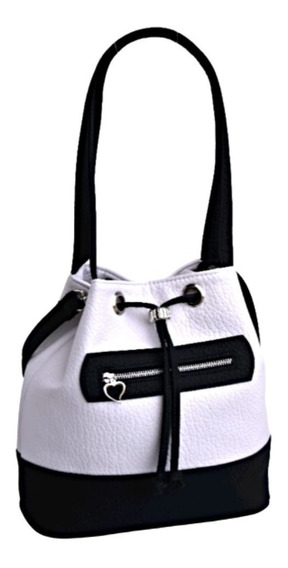cartera: (15, 27, 272, 540)
